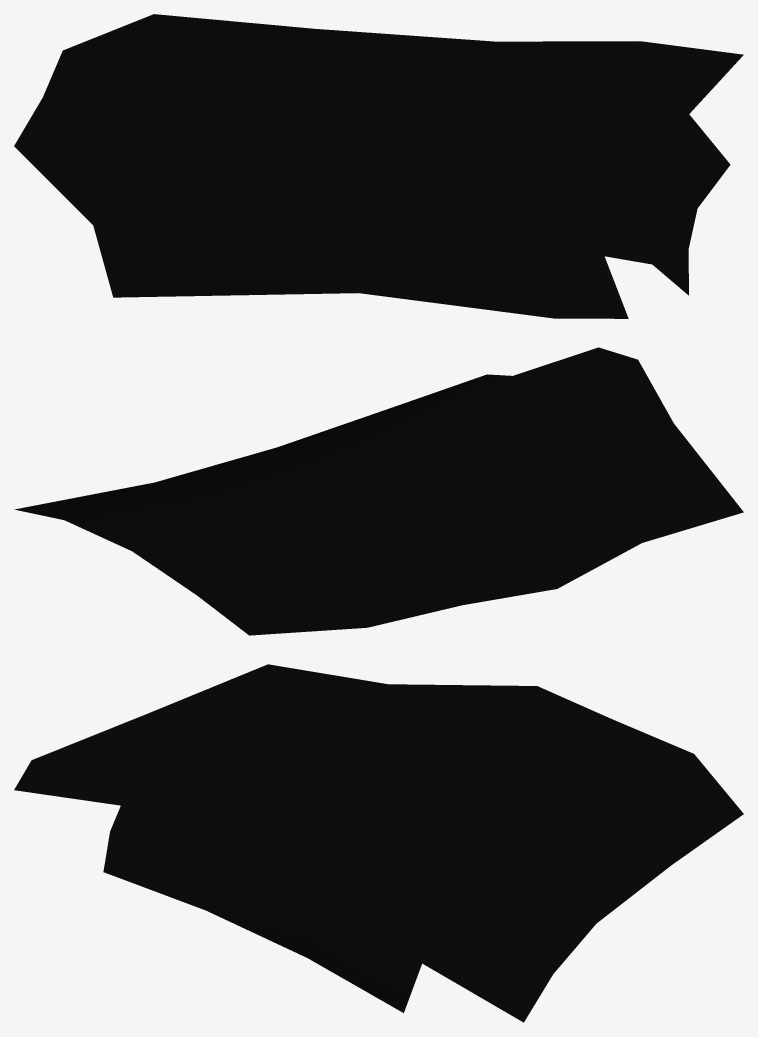
The model's file is HTOWN01_TREESHADOWS07.fbx.
The picture shows the model from 3 angles, top to bottom: view 1: azimuth 30°, elevation 25°; view 2: azimuth 150°, elevation 25°; view 3: azimuth 270°, elevation 25°; orthographic projection. The views are drawn at different scales.
Parts seen in each view (by area): view 1: HTOWN01_TREESHADOWS07; view 2: HTOWN01_TREESHADOWS07; view 3: HTOWN01_TREESHADOWS07.
Part boxes in pixels (box(x1,y1,x2,y2)): HTOWN01_TREESHADOWS07: box(14, 14, 743, 318); HTOWN01_TREESHADOWS07: box(14, 347, 743, 635); HTOWN01_TREESHADOWS07: box(14, 664, 743, 1022).
Size of the model in its own units: 265017 by 38834 by 269593.
Materials: 1 (1 with a texture image).
